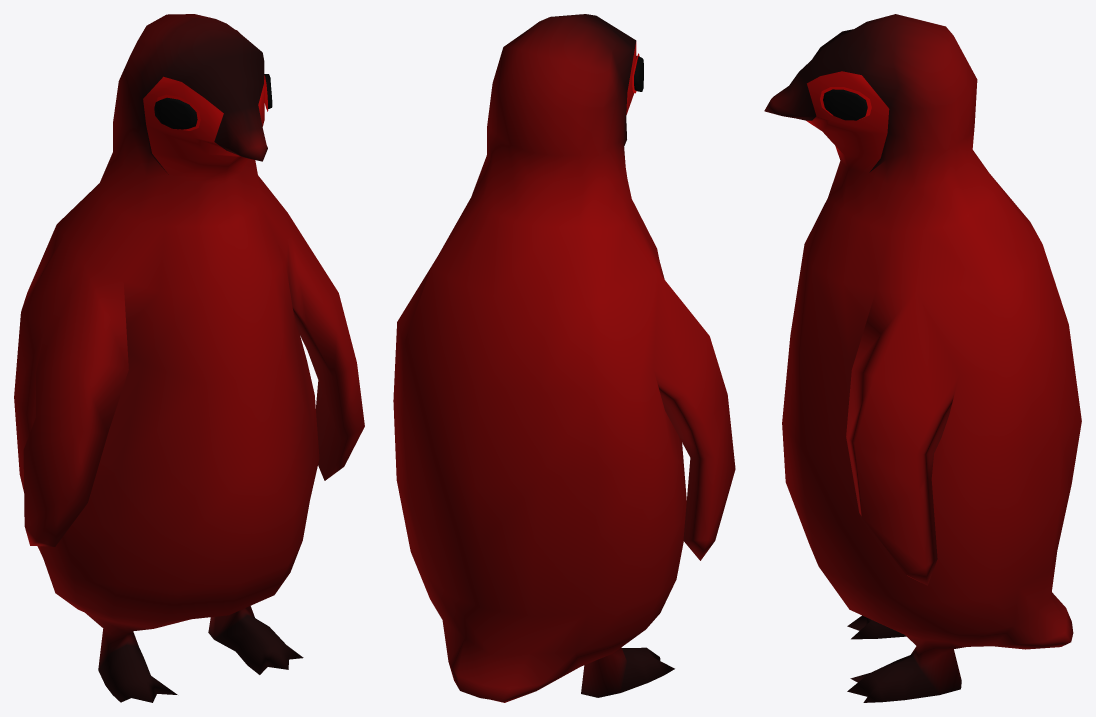
The model's file is BirdsUpright_BabyPenguin.fbx.
3 views of the same model, side by side, from view 1: azimuth 30°, elevation 25°; view 2: azimuth 150°, elevation 25°; view 3: azimuth 270°, elevation 25° (orthographic).
Parts seen in each view (by area): view 1: base; view 2: base; view 3: base.
Part boxes in pixels (x1,y1,x2,y2): base: [14, 14, 364, 702]; base: [393, 14, 735, 702]; base: [764, 14, 1081, 702].
Size of the model in its own units: 37.84 by 73.13 by 32.89.
